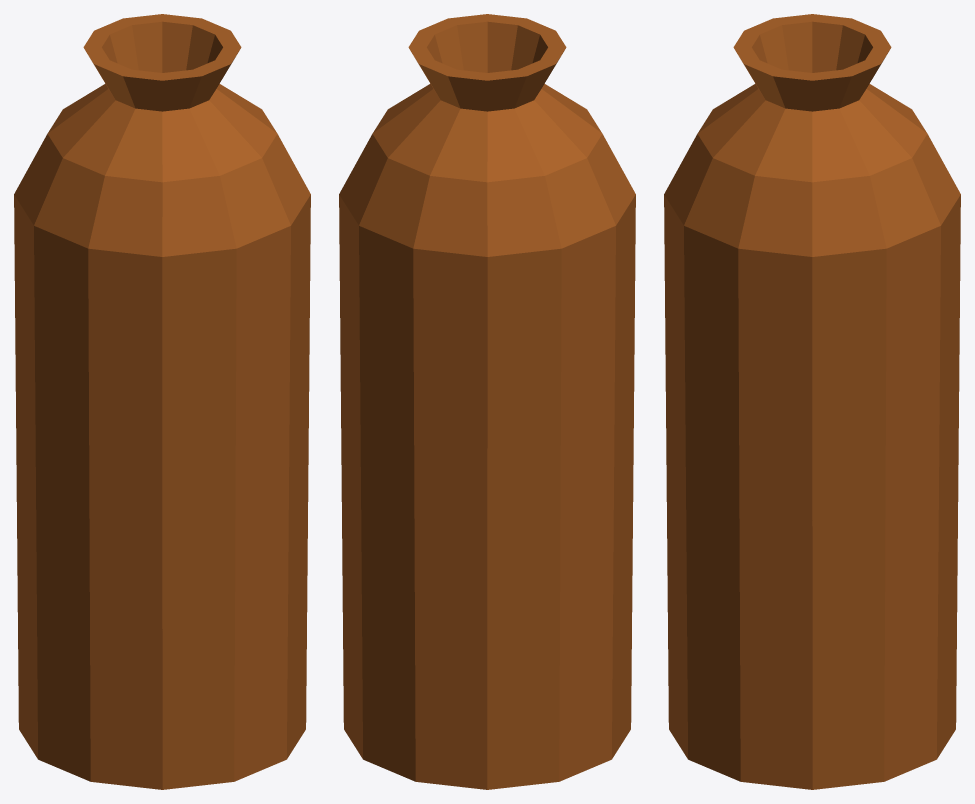
Rendered from SM_pottery_013.FBX.
The picture shows the model from 3 angles, left to right: view 1: azimuth 30°, elevation 25°; view 2: azimuth 150°, elevation 25°; view 3: azimuth 270°, elevation 25°; orthographic projection.
Visible parts, largest first — view 1: Object097; view 2: Object097; view 3: Object097.
Part boxes in pixels (box(x1,y1,x2,y2)): Object097: box(14, 14, 310, 789); Object097: box(339, 14, 635, 789); Object097: box(664, 14, 960, 789).
Size of the model in its own units: 31.78 by 80.54 by 31.78.
